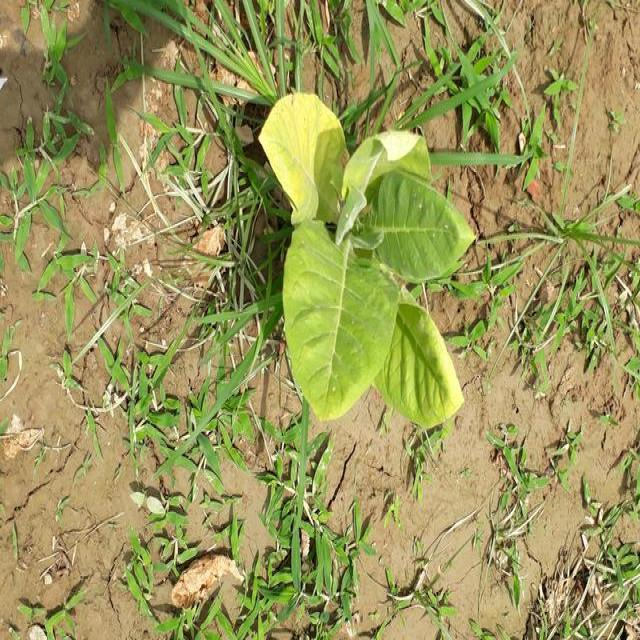crop: (274, 90, 476, 426)
